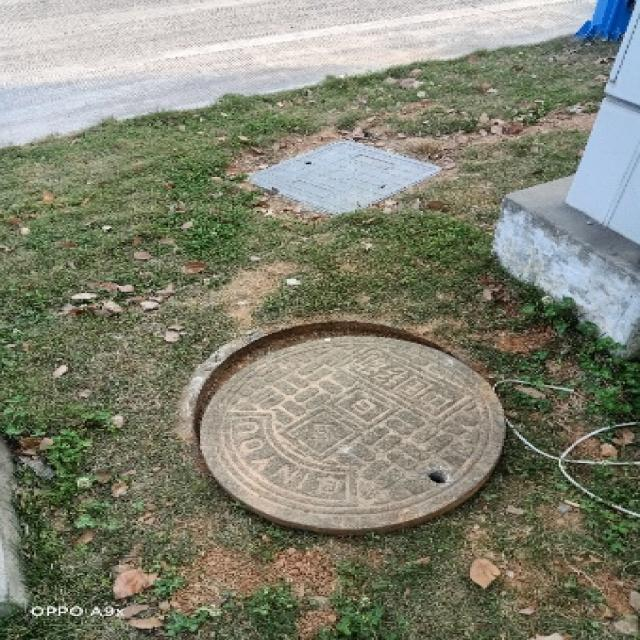Good: (223, 136, 460, 228)
Lose: (176, 318, 518, 540)
